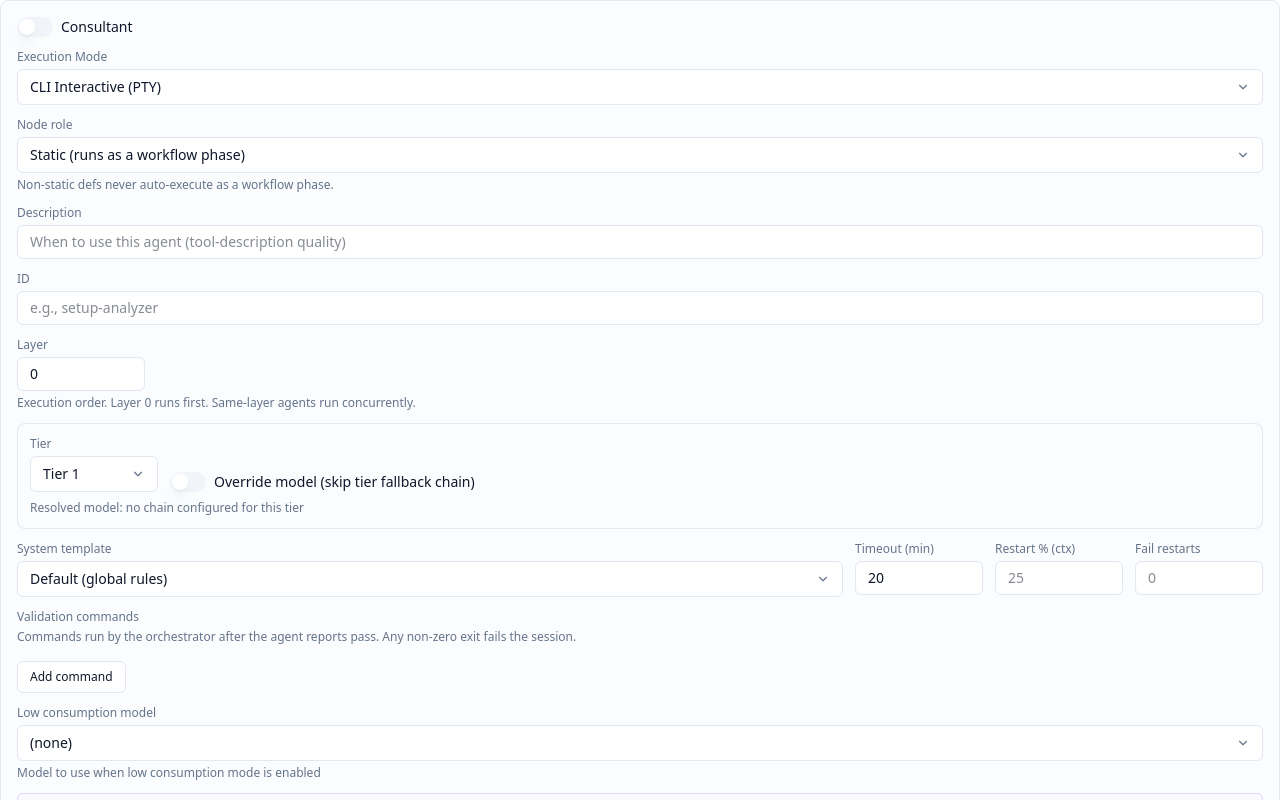
Test: AgentDefForm - node role and description › rendering › description field shows the required hint when node_role is fanout_template
The width and height of the screenshot is (1280, 800).
What coordinates should you click on to do the following:
click the button "Static (runs as a workflow phase)"
I would click on:
 (137, 154)
Its box is x1=17 y1=137 x2=1263 y2=173.
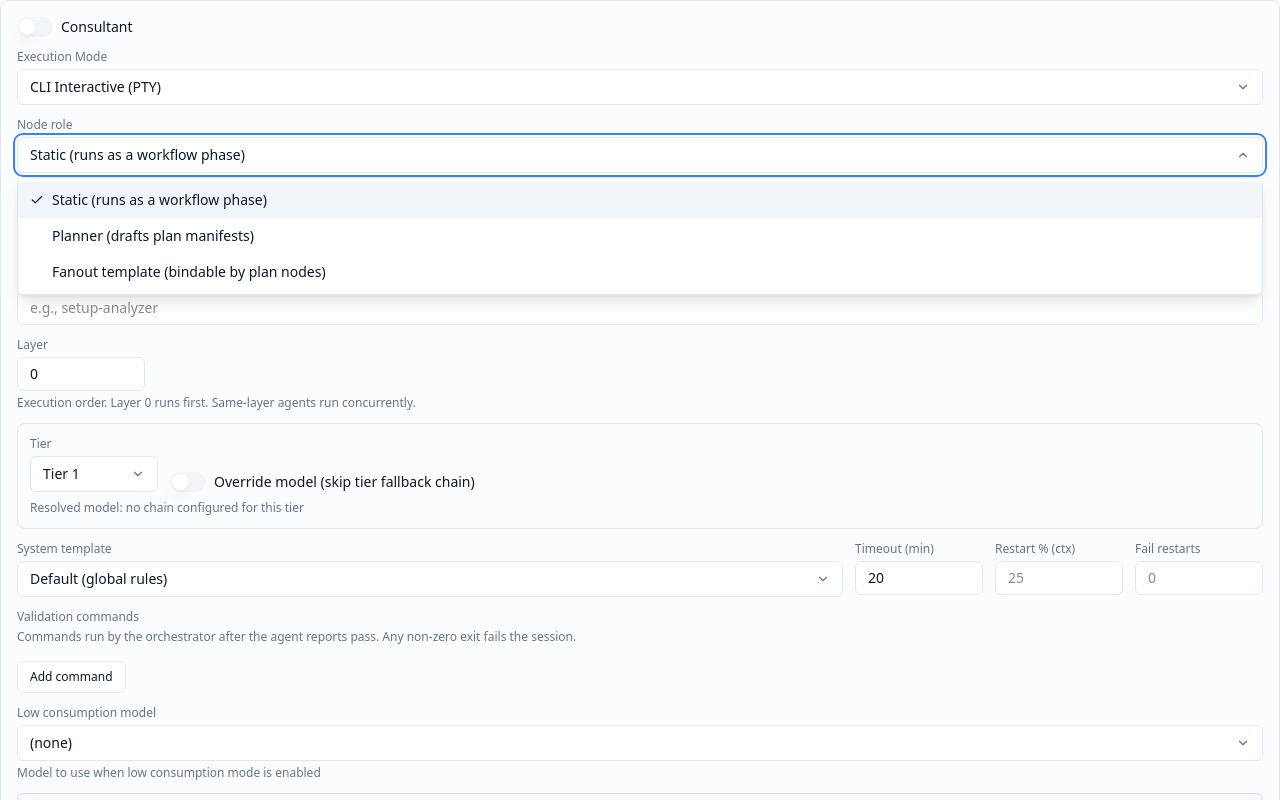
What coordinates should you click on to do the following:
click the text "Fanout template (bindable by plan nodes)"
I would click on:
 (189, 272)
Its box is x1=52 y1=262 x2=326 y2=282.
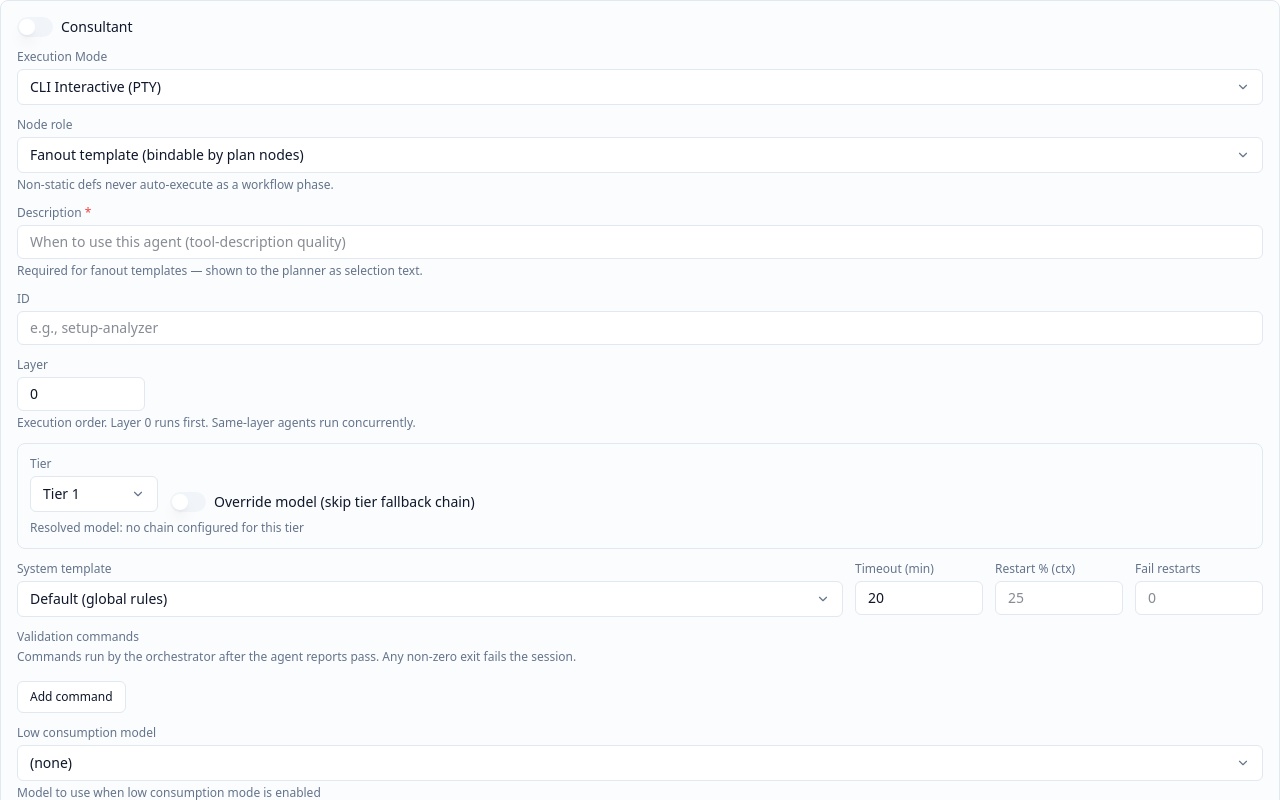
Expected: the text "Required for fanout templates" is shown, x1=17 y1=262 x2=423 y2=279
